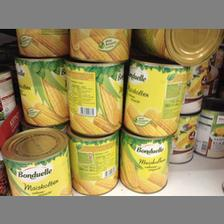Mais: (122, 55, 186, 135), (64, 56, 124, 136), (0, 127, 70, 193), (12, 56, 68, 124), (130, 29, 222, 66), (68, 130, 120, 194), (120, 128, 168, 192)
